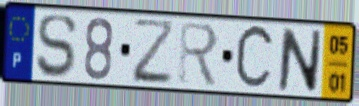8: (83, 15, 115, 82)
C: (232, 21, 277, 94)
N: (276, 26, 324, 96)
R: (176, 19, 221, 90)
S: (35, 12, 79, 80)
Z: (131, 18, 176, 87)
